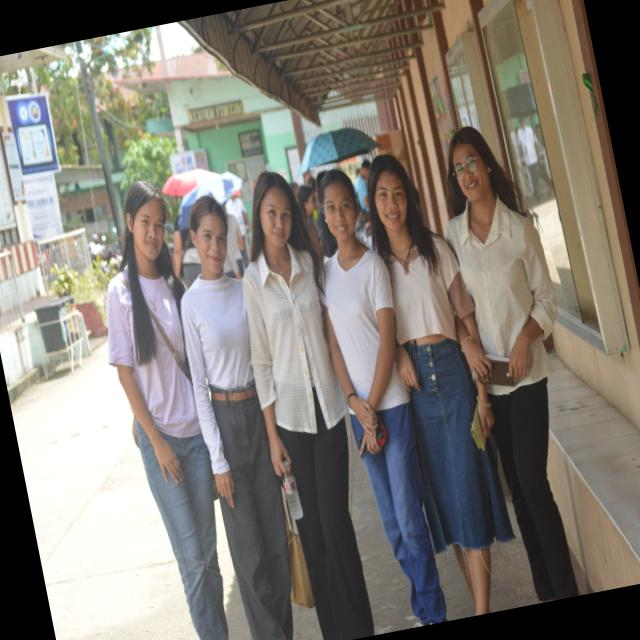person: (367, 155, 513, 614), (446, 127, 577, 601), (242, 172, 373, 639), (319, 170, 445, 624), (106, 182, 227, 639), (181, 196, 292, 639), (354, 159, 369, 212)
